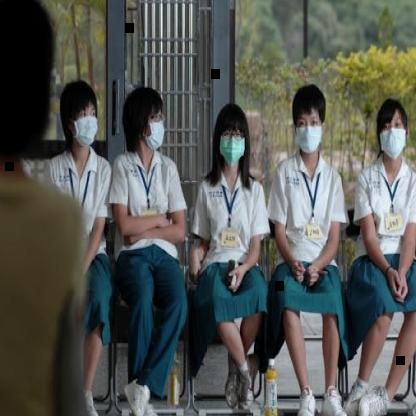mask: (116, 84, 168, 159), (58, 78, 103, 155), (209, 102, 252, 172), (291, 84, 327, 154), (375, 97, 411, 161)
